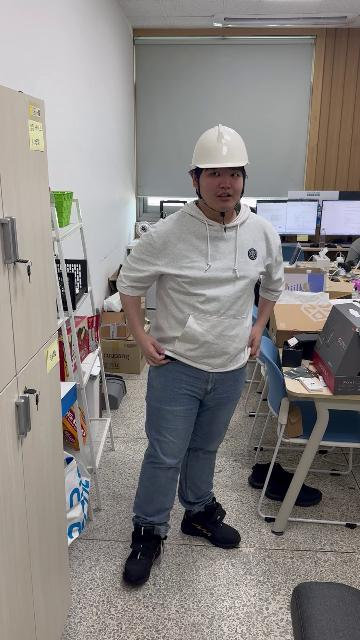helmet_worn: (188, 124, 251, 170)
shoe_not_worn: (249, 461, 320, 504), (248, 460, 281, 489)
shoe_worn: (181, 497, 241, 547), (122, 523, 167, 585)
vest_not_worn: (152, 209, 260, 395)
